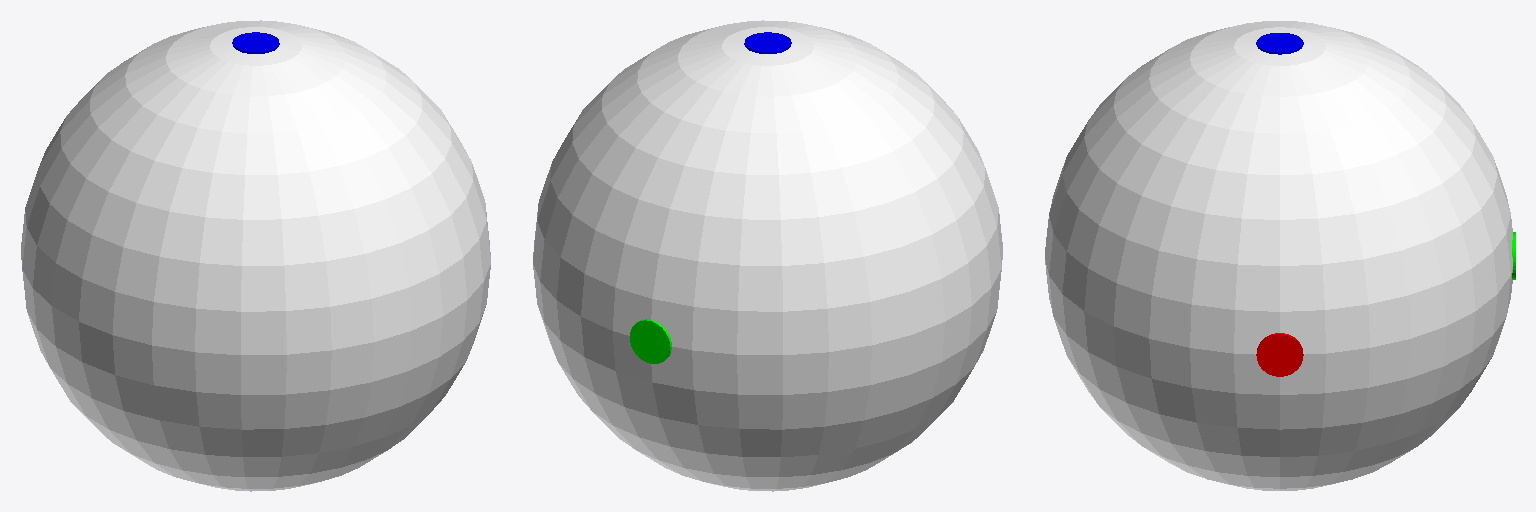
robot.urdf — frame:
<?xml version="1.0" ?>
<robot name="frame">
  <link name="base">
    <inertial>
      <origin rpy="0 0 0" xyz="0 0 0"/>
       <mass value="10.0"/>
       <inertia ixx="1" ixy="0" ixz="0" iyy="1" iyz="0" izz="1"/>
    </inertial>
    <!-- <collision>
      <origin rpy="0 0 0" xyz="0 0 0"/>
      <geometry>
	      <sphere radius="0.1"/>
      </geometry>
    </collision> -->
    <visual>
      <origin rpy="0 0 0" xyz="0 0 0"/>
      <geometry>
				<sphere radius="0.1"/>
      </geometry>
      <material name="trans_transparent">
        <color rgba="1 1 1 0"/>
        <specular rgb="11 1 1"/>
      </material>
    </visual>
  </link>

  <joint name="base_to_x" type="fixed">
    <parent link="base"/>
    <child link="x"/>
    <origin rpy="0 1.5708 0" xyz="0.05 0 0"/>
  </joint>

  <link name="x">
    <inertial>
      <origin rpy="0 0 0" xyz="0 0 0"/>
       <mass value="10.0"/>
       <inertia ixx="1" ixy="0" ixz="0" iyy="1" iyz="0" izz="1"/>
    </inertial>
     <visual>
      <origin rpy="0 0 0" xyz="0 0 0"/>
      <geometry>
				<cylinder radius="0.01" length="0.1"/>
      </geometry>
      <material name="red_transparent">
        <color rgba="1 0 0 0.5"/>
        <specular rgb="11 1 1"/>
      </material>
    </visual>
  </link>

  <joint name="x_to_rot_x" type="fixed">
    <parent link="x"/>
    <child link="rot_x"/>
    <origin rpy="0 0 0" xyz="0 0 0.03"/>
  </joint>

  <link name="rot_x">
    <inertial>
      <origin rpy="0 0 0" xyz="0 0 0"/>
      <mass value="10.0"/>
      <inertia ixx="1" ixy="0" ixz="0" iyy="1" iyz="0" izz="1"/>
    </inertial>
     <visual>
      <origin rpy="0 0 0" xyz="0 0 0"/>
      <geometry>
				<mesh filename="arrow_notex.obj" scale="0.3 0.3 0.3"/>
      </geometry>
      <material name="red_transparent">
        <color rgba="1 0 0 0.5"/>
        <specular rgb="11 1 1"/>
      </material>
    </visual>
  </link>

  <joint name="base_to_y" type="fixed">
    <parent link="base"/>
    <child link="y"/>
    <origin rpy="-1.5708 0 0" xyz="0 0.05 0"/>
  </joint>

  <link name="y">
    <inertial>
      <origin rpy="0 0 0" xyz="0 0 0"/>
       <mass value="10.0"/>
       <inertia ixx="1" ixy="0" ixz="0" iyy="1" iyz="0" izz="1"/>
    </inertial>
     <visual>
      <origin rpy="0 0 0" xyz="0 0 0"/>
      <geometry>
				<cylinder radius="0.01" length="0.1"/>
      </geometry>
      <material name="green_transparent">
        <color rgba="0 1 0 0.5"/>
        <specular rgb="1 11 1"/>
      </material>
    </visual>
  </link>

  <joint name="y_to_rot_y" type="fixed">
    <parent link="y"/>
    <child link="rot_y"/>
    <origin rpy="0 0 0" xyz="0 0 0.03"/>
  </joint>

  <link name="rot_y">
    <inertial>
      <origin rpy="0 0 0" xyz="0 0 0"/>
      <mass value="10.0"/>
      <inertia ixx="1" ixy="0" ixz="0" iyy="1" iyz="0" izz="1"/>
    </inertial>
     <visual>
      <origin rpy="0 0 0" xyz="0 0 0"/>
      <geometry>
				<mesh filename="arrow_notex.obj" scale="0.3 0.3 0.3"/>
      </geometry>
      <material name="green_transparent">
        <color rgba="0 1 0 0.5"/>
        <specular rgb="1 11 1"/>
      </material>
    </visual>
  </link>

  <joint name="base_to_z" type="fixed">
    <parent link="base"/>
    <child link="z"/>
    <origin rpy="0 0 0" xyz="0 0 0.05"/>
  </joint>

  <link name="z">
    <inertial>
      <origin rpy="0 0 0" xyz="0 0 0"/>
       <mass value="10.0"/>
       <inertia ixx="1" ixy="0" ixz="0" iyy="1" iyz="0" izz="1"/>
    </inertial>
     <visual>
      <origin rpy="0 0 0" xyz="0 0 0"/>
      <geometry>
				<cylinder radius="0.01" length="0.1"/>
      </geometry>
      <material name="blue_transparent">
        <color rgba="0 0 1 0.5"/>
        <specular rgb="1 1 11"/>
      </material>
    </visual>
  </link>

  <joint name="z_to_rot_z" type="fixed">
    <parent link="z"/>
    <child link="rot_z"/>
    <origin rpy="0 0 0" xyz="0 0 0.03"/>
  </joint>

  <link name="rot_z">
    <inertial>
      <origin rpy="0 0 0" xyz="0 0 0"/>
      <mass value="10.0"/>
      <inertia ixx="1" ixy="0" ixz="0" iyy="1" iyz="0" izz="1"/>
    </inertial>
     <visual>
      <origin rpy="0 0 0" xyz="0 0 0"/>
      <geometry>
				<mesh filename="arrow_notex.obj" scale="0.3 0.3 0.3"/>
      </geometry>
      <material name="blue_transparent">
        <color rgba="0 0 1 0.5"/>
        <specular rgb="1 1 11"/>
      </material>
    </visual>
  </link>
</robot>

--- Render facts (derived) ---
The picture shows the robot from 3 angles, left to right: view 1: azimuth 30°, elevation 25°; view 2: azimuth 150°, elevation 25°; view 3: azimuth 270°, elevation 25°; orthographic projection.
Model frame with 7 links and 6 joints (6 fixed), rooted at base, posed every joint at zero.
Visible links, largest first — view 1: base, z; view 2: base, y, z; view 3: base, x, z.
Boxes of the visible links, bbox=[...] form: base: bbox=[21, 20, 490, 491]; z: bbox=[232, 32, 279, 53]; base: bbox=[533, 20, 1002, 491]; y: bbox=[630, 319, 671, 363]; z: bbox=[744, 32, 791, 53]; base: bbox=[1045, 21, 1512, 490]; x: bbox=[1256, 333, 1303, 376]; z: bbox=[1256, 33, 1303, 54].
Size in the robot's own frame: 0.2 by 0.2 by 0.2 metres.
Meshes: 1 distinct files referenced, 0 mesh visuals loaded (none loaded); not drawn: 3 (reference not matched to a file when rendering).